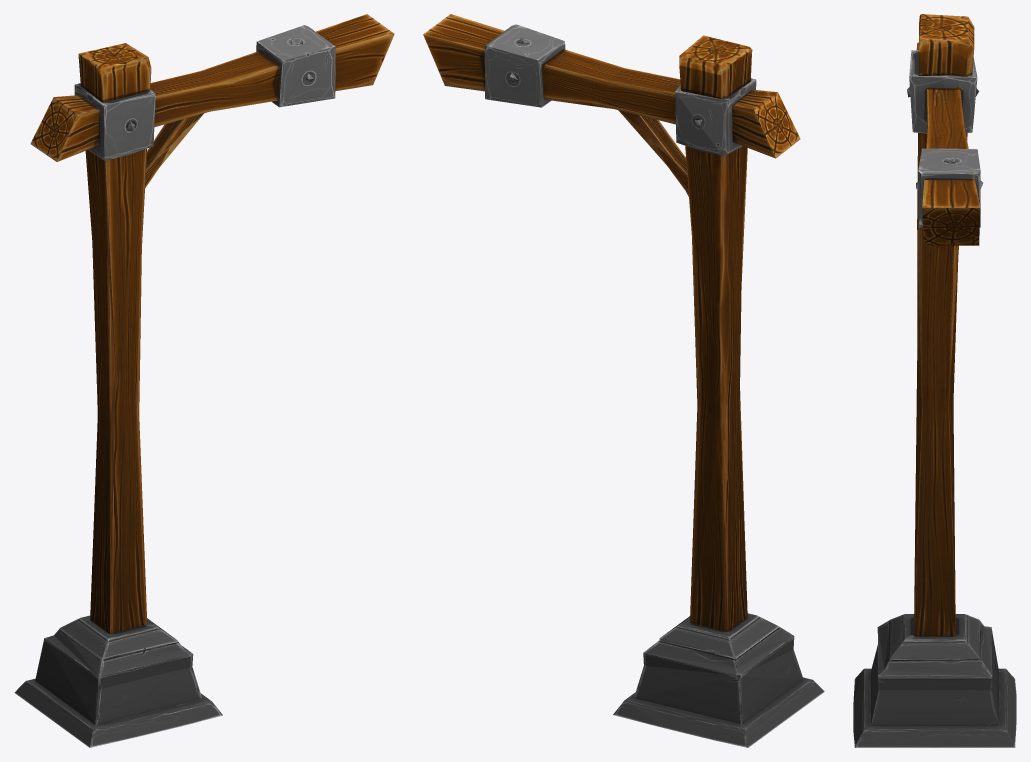
Rendered from HOS0810003.fbx.
The picture shows the model from 3 angles, left to right: view 1: azimuth 30°, elevation 25°; view 2: azimuth 150°, elevation 25°; view 3: azimuth 270°, elevation 25°; orthographic projection. The views are drawn at different scales.
Parts seen in each view (by area): view 1: smHOS0810003; view 2: smHOS0810003; view 3: smHOS0810003.
Boxes of the visible parts, x1,y1,x2,y2 form: smHOS0810003: (14,14,394,747); smHOS0810003: (423,14,824,747); smHOS0810003: (853,14,1016,747).
Bounding box in the file's own units: 121 × 219 × 47.15.
1 material, 1 textured.
